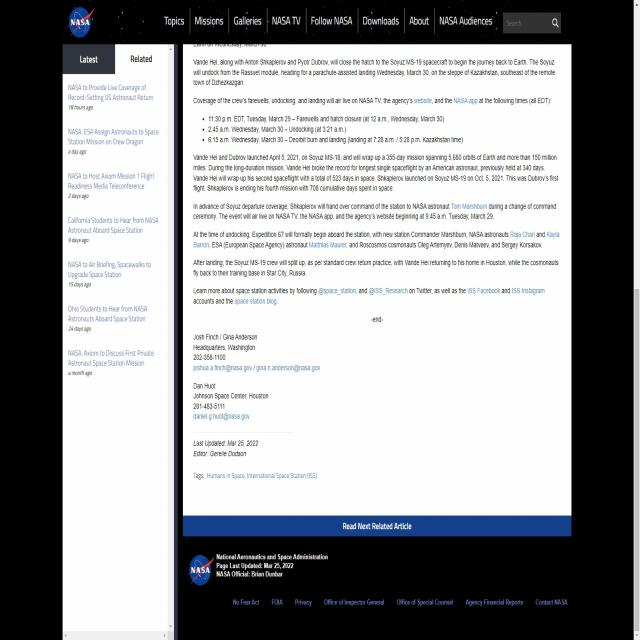menu-bar: (157, 6, 497, 34), (230, 594, 572, 610)
search: (501, 6, 564, 38)
side-panel: (62, 43, 176, 640)
